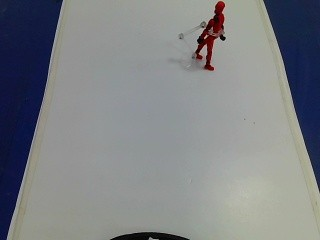pedestrian: (191, 0, 231, 80)
